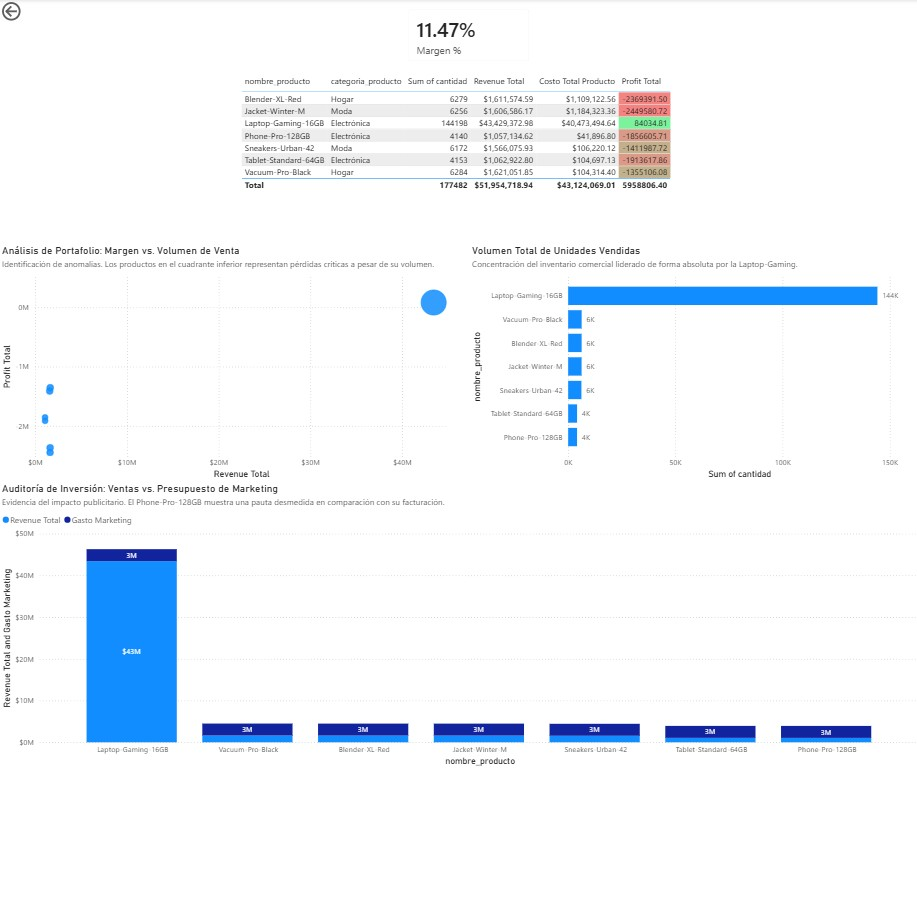

This screenshot's page, from the dashboard's own definition file:
{"tool":"powerbi","page":{"name":"Detalle","canvas":[1500,1500],"ordinal":1},"visuals":[{"type":"actionButton","box":[0,0,100,40],"z":0},{"type":"tableEx","fields":{"Values":["catalog_clean.nombre_producto","catalog_clean.categoria_producto","Sum(orders_clean.cantidad)","_Medidas.Revenue Total","_Medidas.Costo Total Producto","_Medidas.Profit Total"]},"box":[388,118.5,750,233.8],"z":1000},{"type":"scatterChart","title":"Análisis de Portafolio: Margen vs. Volumen de Venta","fields":{"X":["_Medidas.Revenue Total"],"Y":["_Medidas.Profit Total"],"Size":["Sum(orders_clean.cantidad)"],"Category":["catalog_clean.nombre_producto"]},"box":[0,397.7,750,386.4],"z":2000},{"type":"columnChart","title":"Auditoría de Inversión: Ventas vs. Presupuesto de Marketing","fields":{"Category":["catalog_clean.nombre_producto"],"Y":["_Medidas.Revenue Total","_Medidas.Gasto Marketing"]},"box":[0,784.1,1500,465.9],"z":3000},{"type":"clusteredBarChart","title":"Volumen Total de Unidades Vendidas","fields":{"Category":["catalog_clean.nombre_producto"],"Y":["Sum(orders_clean.cantidad)"]},"box":[763,397.7,737,386.4],"z":4000},{"type":"cardVisual","fields":{"Data":["_Medidas.Margen %"]},"box":[647.7,0,230.5,118.5],"z":5000}]}

Visuals, with their boxes in screenshot pixels (x1, y1, x2, y2), scaled from the page's 1500x1500 canvas onto the 917x917 screenshot:
actionButton: [x1=0, y1=0, x2=61, y2=24]
tableEx - catalog_clean.nombre_producto x catalog_clean.categoria_producto: [x1=237, y1=72, x2=696, y2=215]
"Análisis de Portafolio: Margen vs. Volumen de Venta" scatterChart: [x1=0, y1=243, x2=458, y2=479]
"Auditoría de Inversión: Ventas vs. Presupuesto de Marketing" columnChart: [x1=0, y1=479, x2=916, y2=764]
"Volumen Total de Unidades Vendidas" clusteredBarChart: [x1=466, y1=243, x2=916, y2=479]
cardVisual - _Medidas.Margen %: [x1=396, y1=0, x2=537, y2=72]
